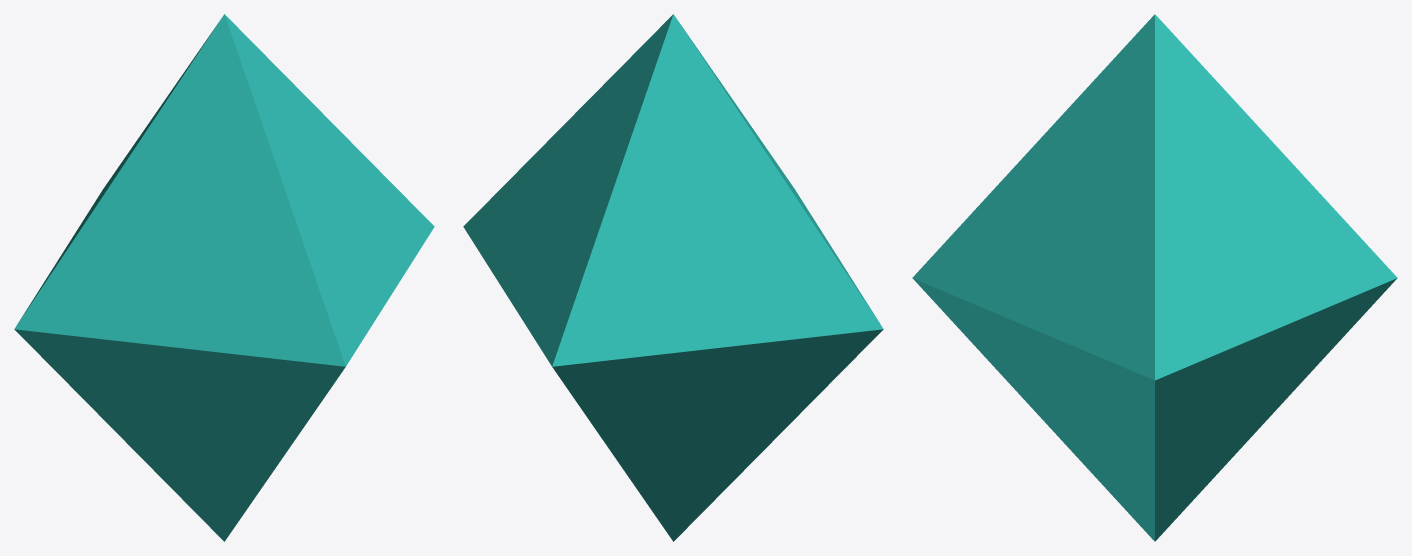
File: octahedron-quality.glb
3 renders of one model, left to right at view 1: azimuth 30°, elevation 25°; view 2: azimuth 150°, elevation 25°; view 3: azimuth 270°, elevation 25°, orthographic.
Parts seen in each view (by area): view 1: Octahedron; view 2: Octahedron; view 3: Octahedron.
Boxes of the visible parts, bbox=[...] form: Octahedron: bbox=[14, 14, 434, 541]; Octahedron: bbox=[463, 14, 883, 541]; Octahedron: bbox=[912, 14, 1397, 541].
Bounding box in the file's own units: 2 × 2.4 × 2.
